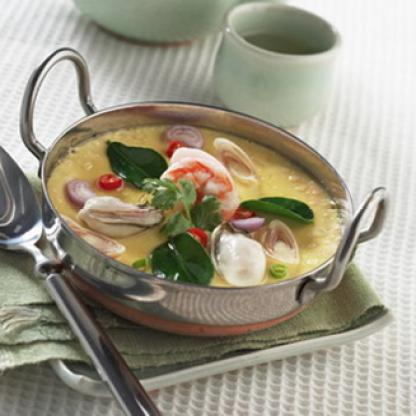Kaithoon: (35, 91, 358, 314)
